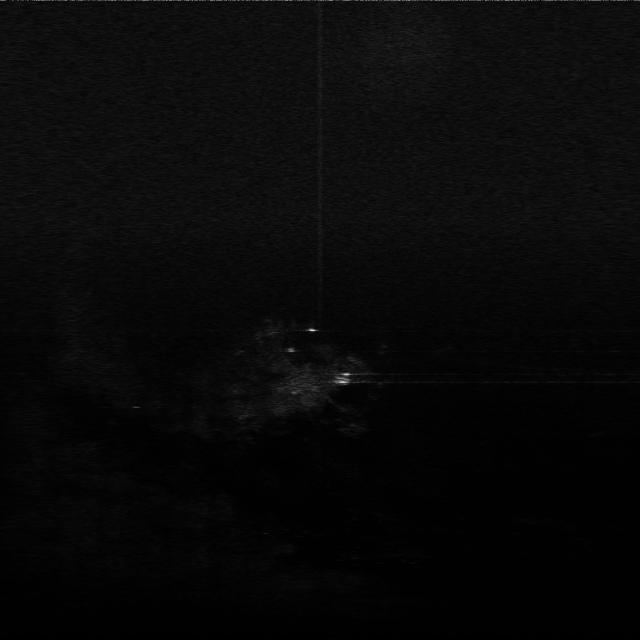rov: (331, 369, 357, 386)
